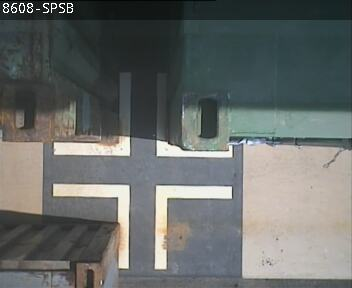groundmarker_1: (52, 180, 231, 268), (54, 69, 233, 157)
